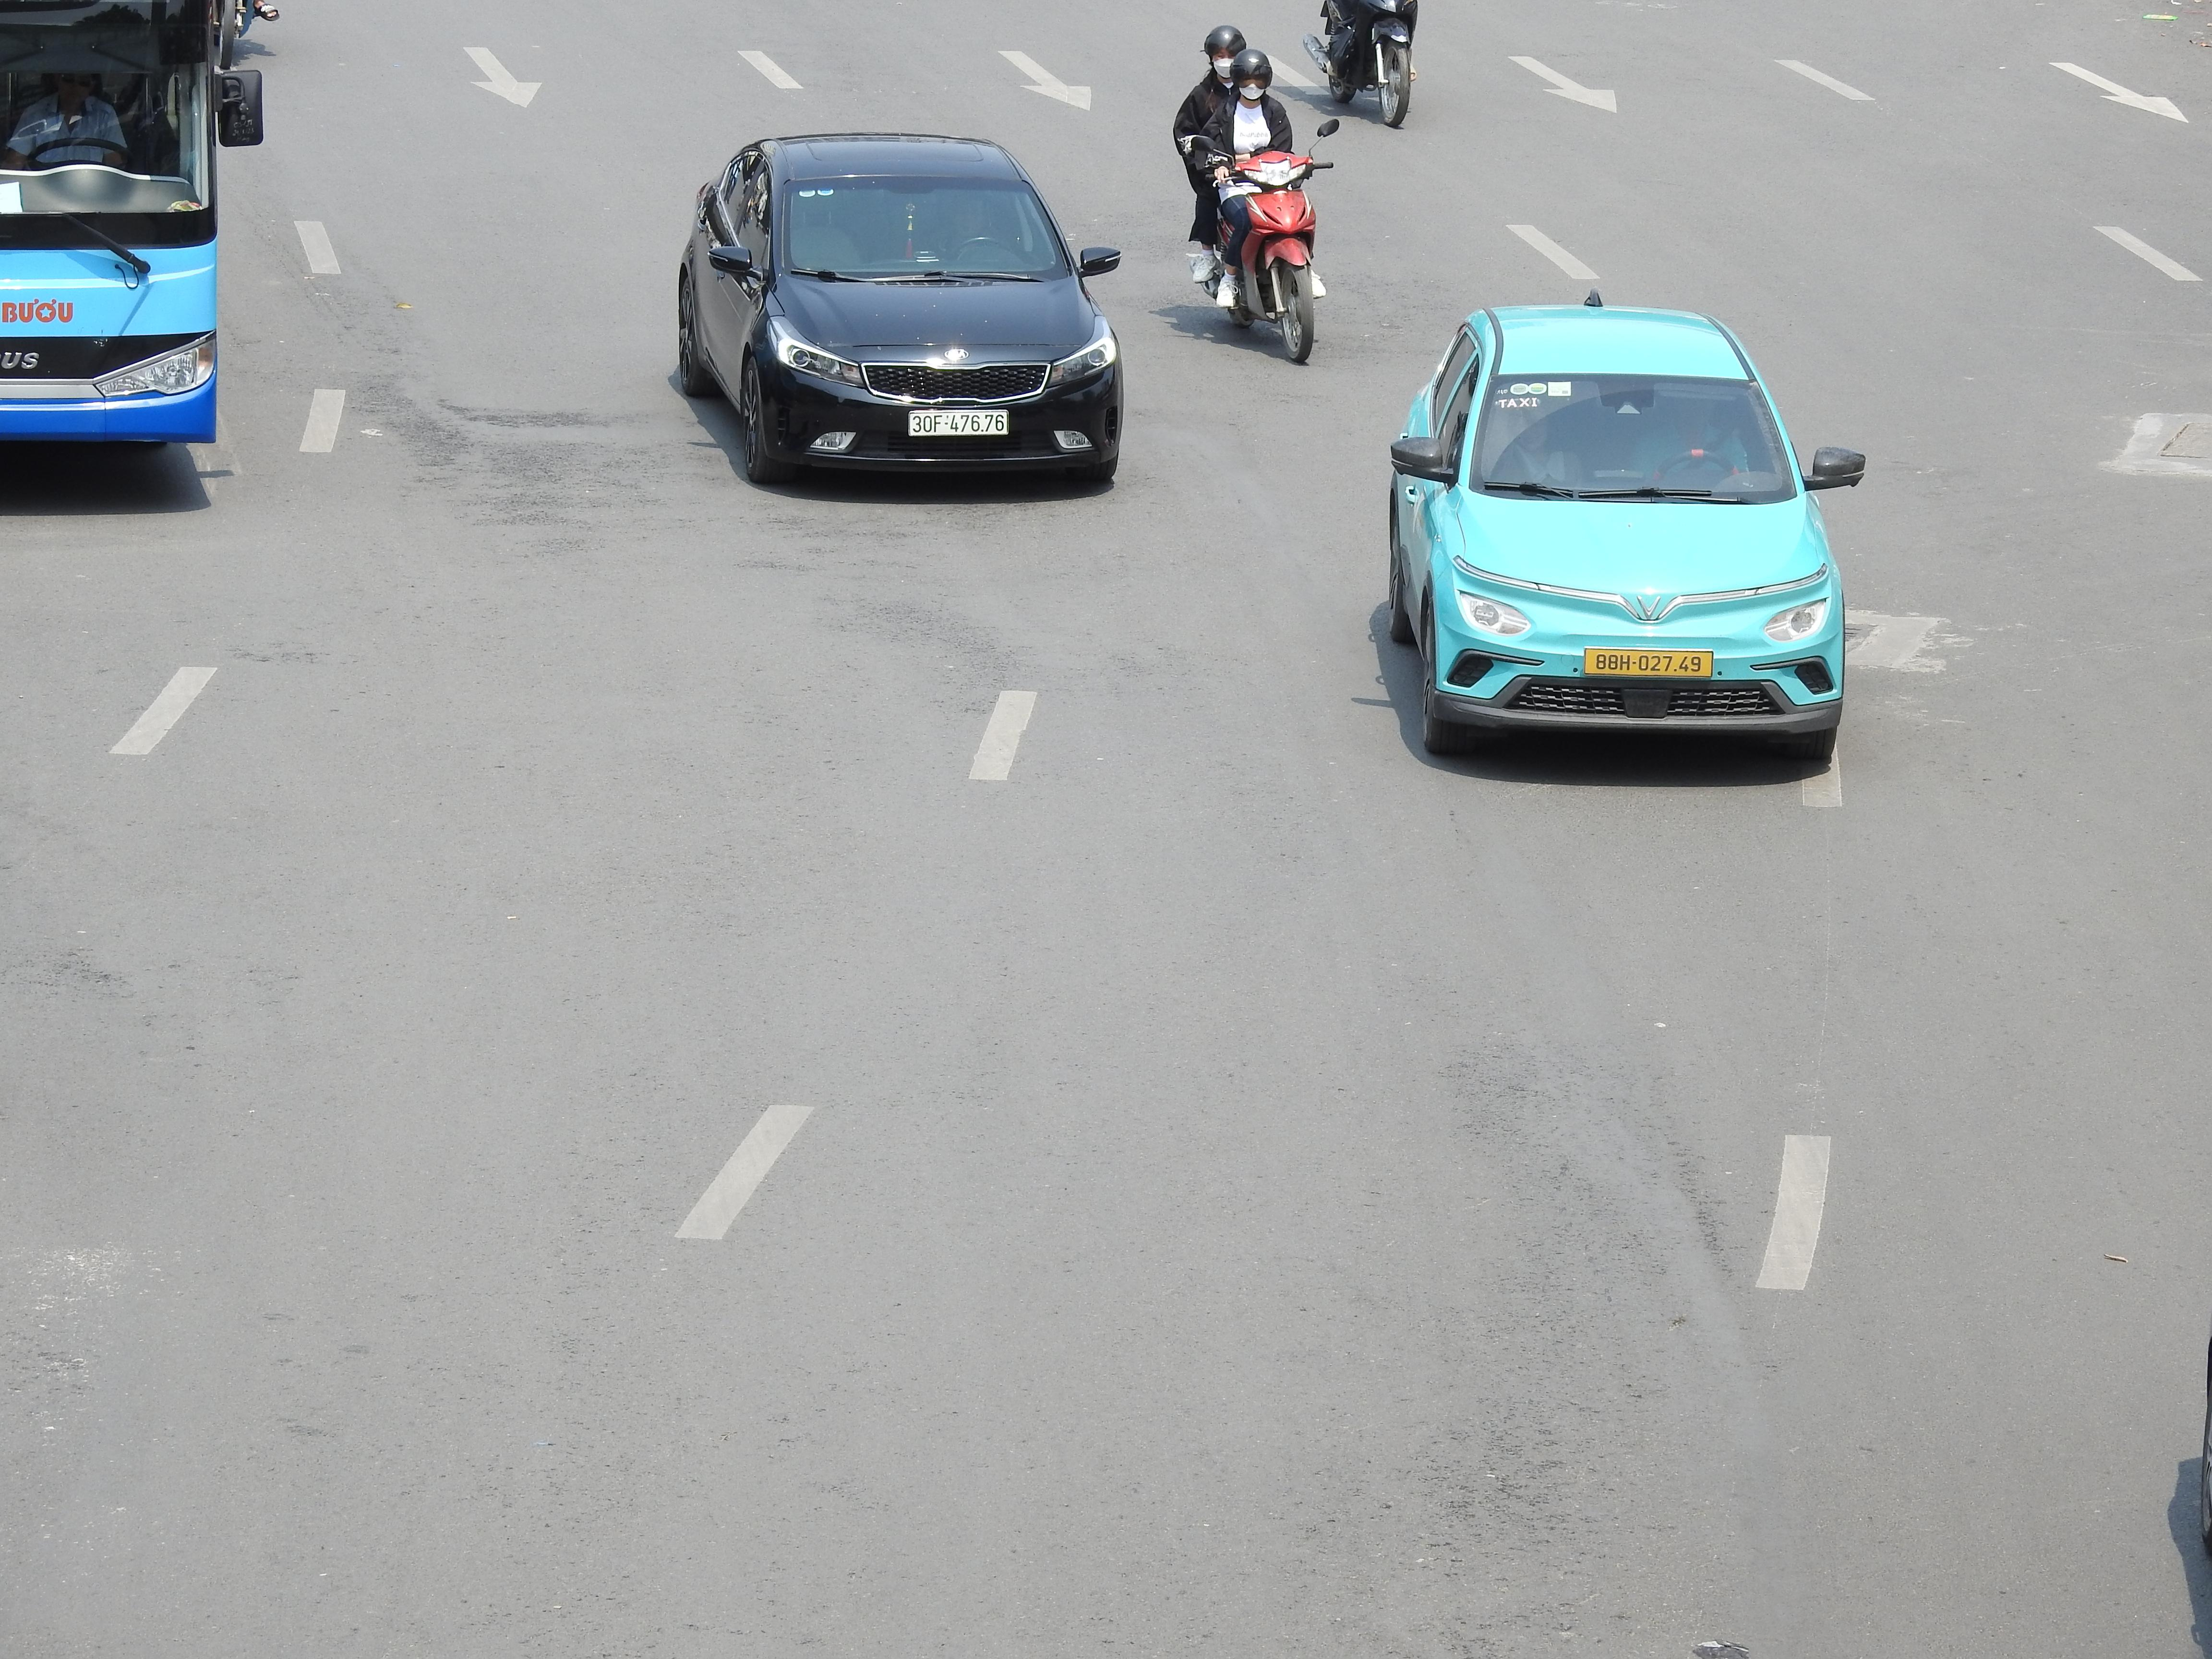BSD: (1583, 648, 1714, 678), (907, 411, 1008, 436)
bus: (0, 0, 268, 457)
car: (1379, 301, 1865, 765), (671, 131, 1127, 490)
motorbike: (1176, 26, 1332, 366), (1306, 0, 1421, 129)
